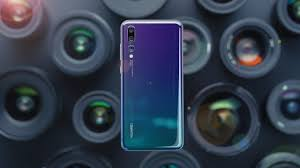huawei: (117, 20, 186, 151)
